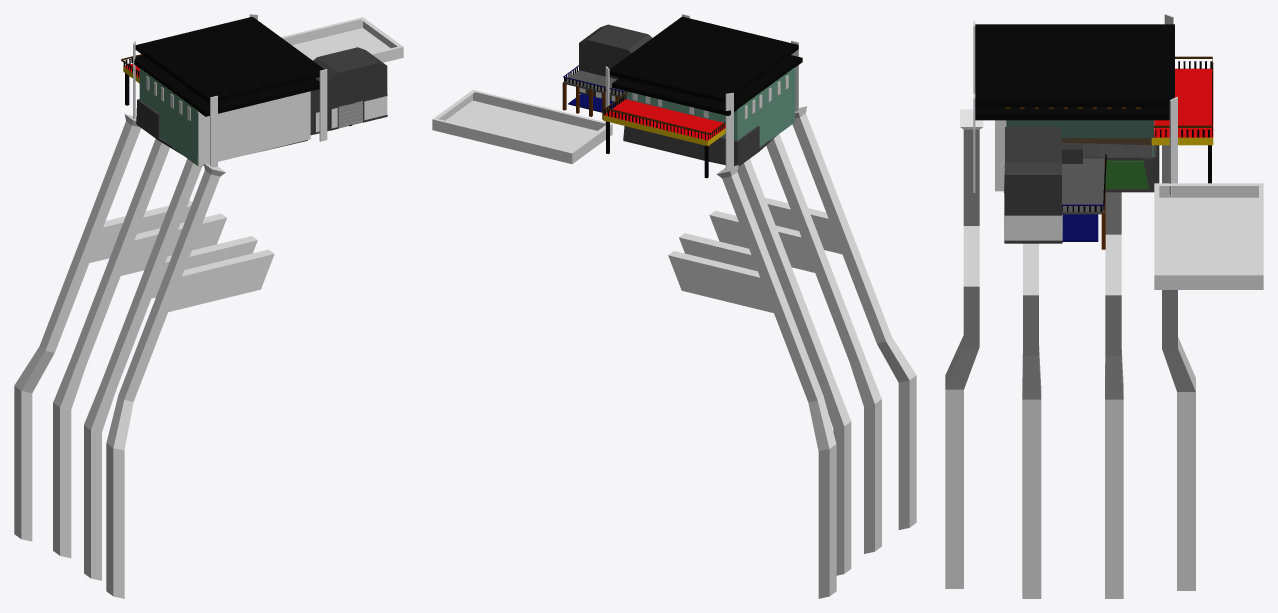
The model's file is PlayerHouseSTM.fbx.
3 renders of one model, left to right at view 1: azimuth 30°, elevation 25°; view 2: azimuth 150°, elevation 25°; view 3: azimuth 270°, elevation 25°, orthographic. The views are drawn at different scales.
Parts seen in each view (by area): view 1: OceanSupportD, OceanSupportB, OceanSupportA, Roof, OceanSupportC, Wall, Garage, PoolHolder, LivingRoom, Roof.001, EvidenceRoomFloor.001, OuterSupportA (+2 smaller); view 2: OceanSupportA, OceanSupportC, Roof, OceanSupportD, OceanSupportB, PoolHolder, LivingRoom, Balcony, EvidenceRoomFloor.001, Roof.001, Garage, GarageBalcony (+1 smaller); view 3: Roof, PoolHolder, OceanSupportD, OceanSupportB, OceanSupportC, OceanSupportA, Garage, Balcony, Roof.001, GarageBalcony, Cube.001, Window (+7 smaller).
Part boxes in pixels (box(x1,y1,x2,y2)): OceanSupportD: box(106, 163, 274, 598); OceanSupportB: box(53, 139, 226, 558); OceanSupportA: box(14, 114, 192, 541); Roof: box(135, 17, 324, 103); OceanSupportC: box(84, 159, 257, 580); Wall: box(198, 91, 310, 166); Garage: box(310, 47, 387, 135); PoolHolder: box(281, 17, 403, 62); LivingRoom: box(139, 68, 198, 165); Roof.001: box(131, 55, 319, 116); EvidenceRoomFloor.001: box(136, 99, 307, 166); OuterSupportA: box(319, 69, 327, 141); OceanSupportA: box(668, 165, 836, 598); OceanSupportC: box(709, 134, 881, 553); Roof: box(609, 16, 798, 103); OceanSupportD: box(765, 106, 916, 529); OceanSupportB: box(679, 159, 851, 575); PoolHolder: box(432, 90, 612, 164); LivingRoom: box(626, 67, 795, 146); Balcony: box(603, 99, 725, 145); EvidenceRoomFloor.001: box(623, 126, 776, 166); Roof.001: box(612, 55, 802, 115); Garage: box(579, 24, 652, 102); GarageBalcony: box(563, 70, 624, 98); Roof: box(975, 24, 1174, 106); PoolHolder: box(1154, 183, 1263, 289); OceanSupportD: box(945, 109, 983, 588); OceanSupportB: box(1105, 192, 1123, 598); OceanSupportC: box(1022, 243, 1041, 598); OceanSupportA: box(1162, 145, 1195, 590); Garage: box(1004, 127, 1082, 243); Balcony: box(1151, 68, 1213, 145); Roof.001: box(975, 107, 1169, 120); GarageBalcony: box(1062, 158, 1104, 214); Cube.001: box(1006, 120, 1153, 137); Window: box(1004, 215, 1062, 240).
Size of the model in its own units: 7218 by 8793 by 3966.
